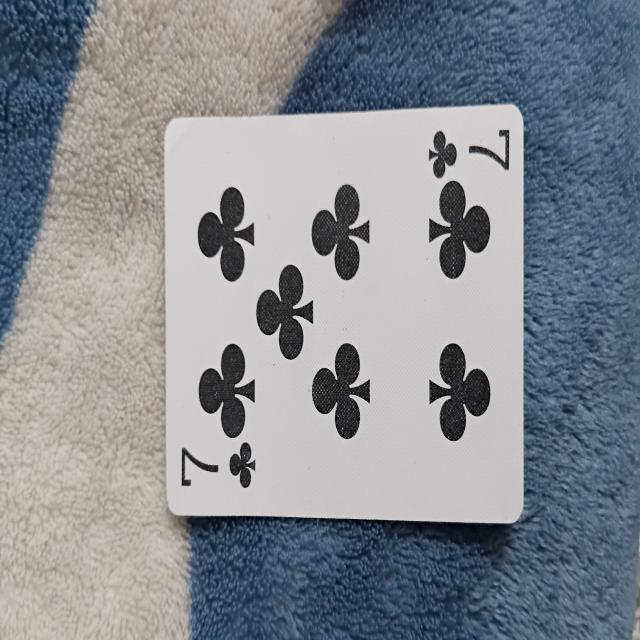7C: (162, 104, 526, 534)
